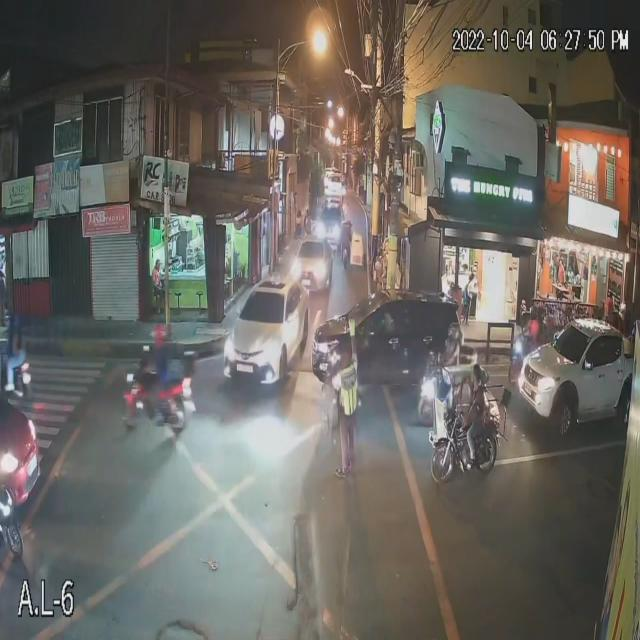Full-Faced: (146, 320, 166, 355)
